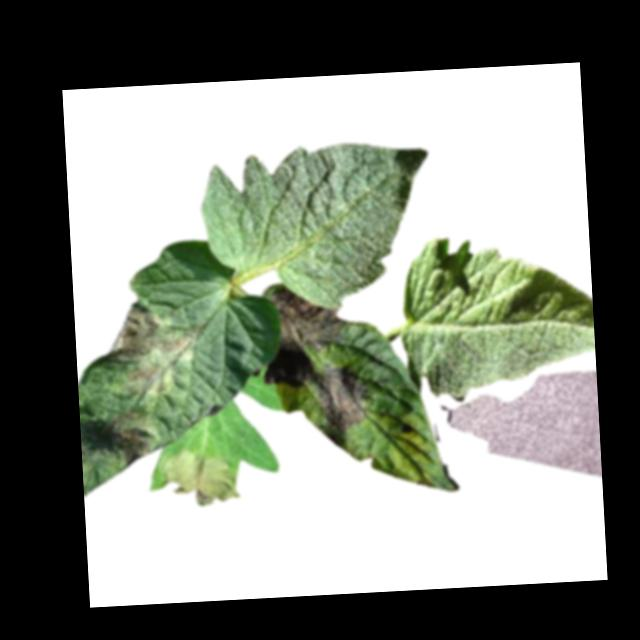Late_blight: (262, 345, 368, 434), (104, 299, 196, 362), (160, 446, 246, 510), (270, 284, 345, 350), (109, 408, 165, 468), (121, 359, 176, 398)
